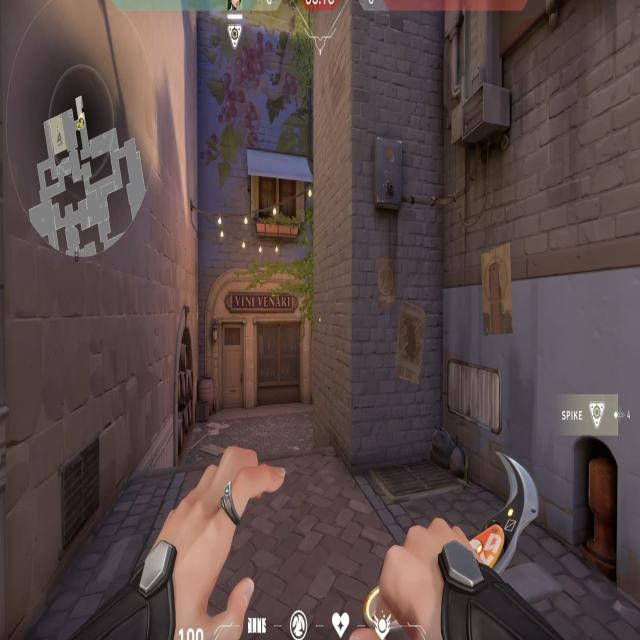Wine: (199, 258, 316, 438)
